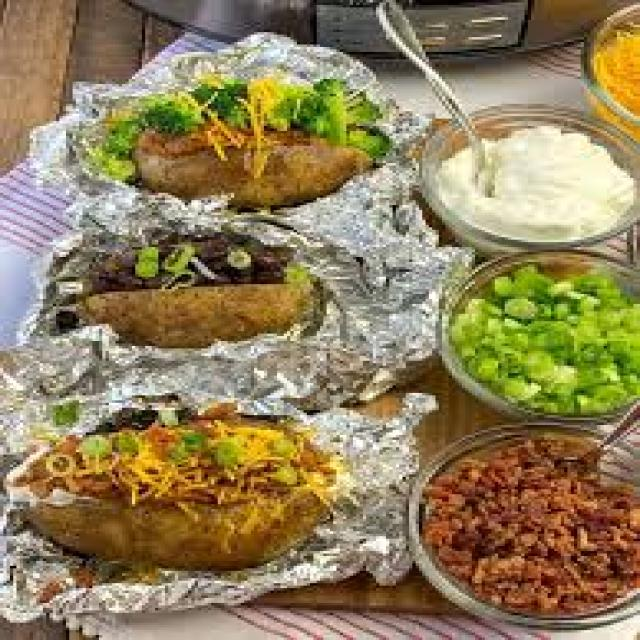Baked Potato: (45, 418, 365, 569), (134, 70, 407, 212), (115, 233, 352, 364)
